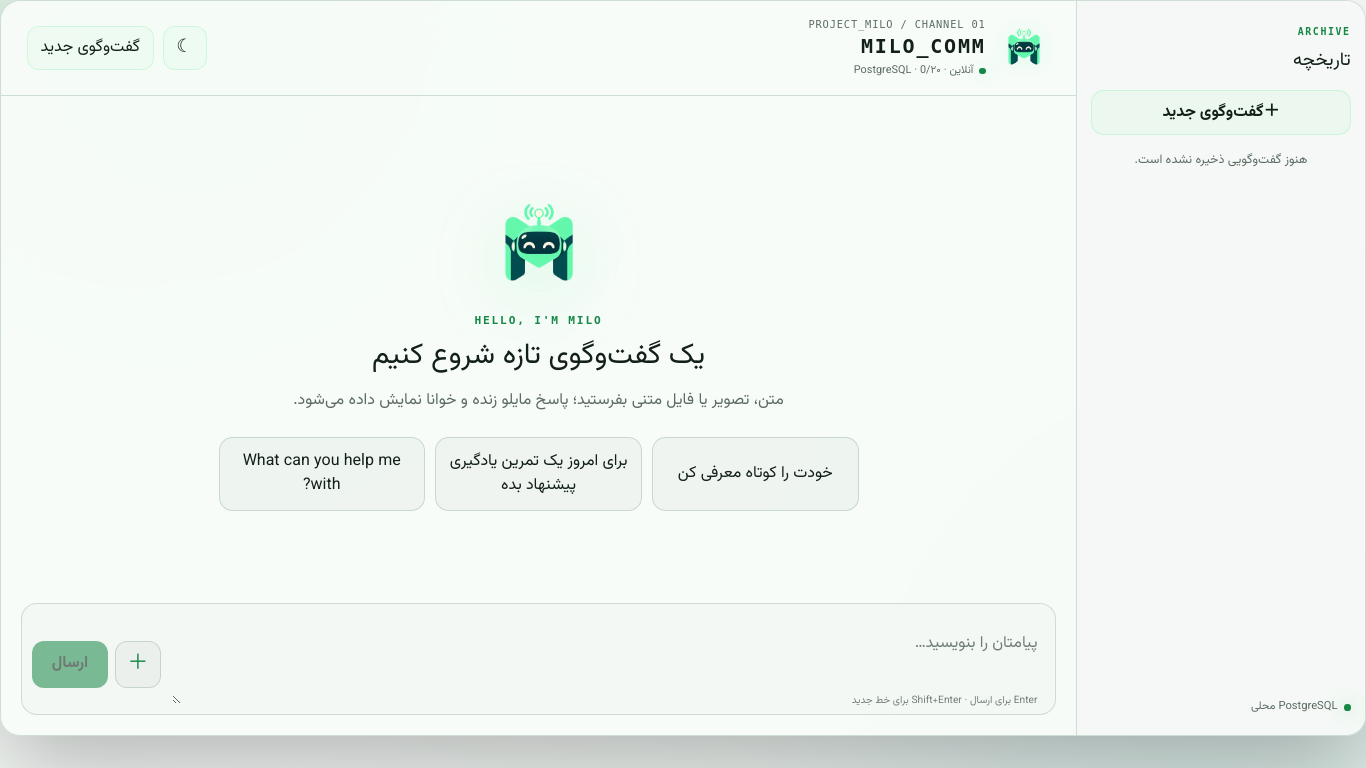
Test: ChatShell › keeps the user message and retries a temporary failure
Type "دوباره تلاش کن" into the text box named "پیام شما برای مایلو".
click(608, 664); type("دوباره تلاش کن")  # box [172, 625, 1045, 704]
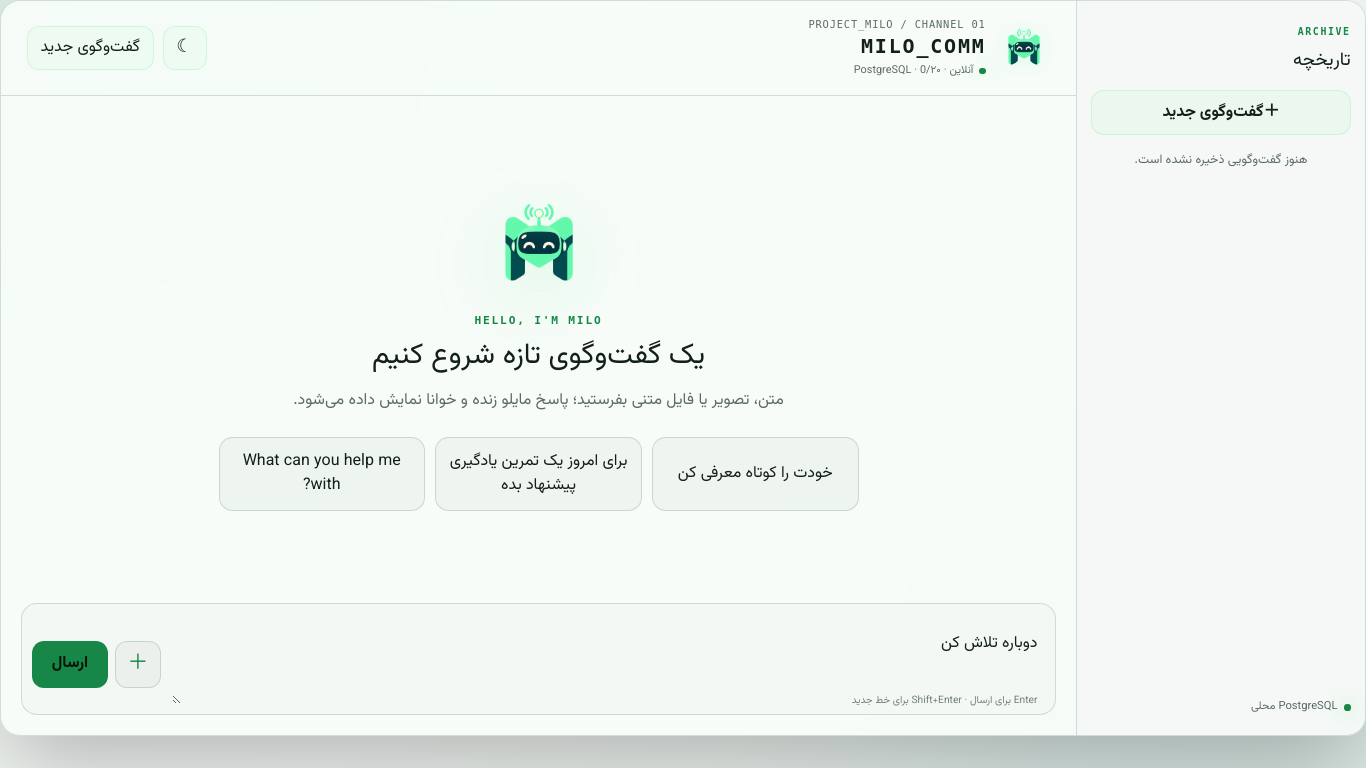
Click the button "ارسال".
click(70, 664)  # box [32, 641, 108, 688]
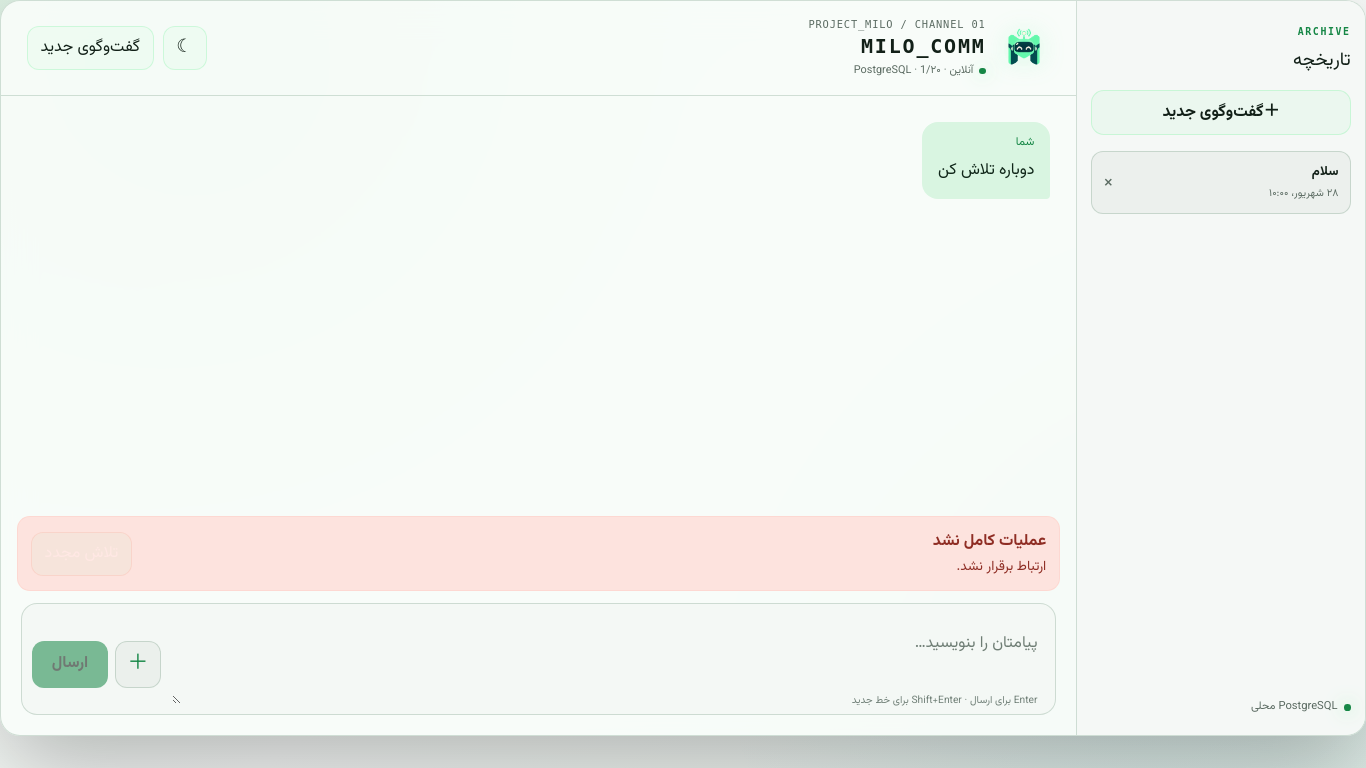
Expected: the text box "دوباره تلاش کن" is shown, [172, 625, 1045, 704]
Click the button "تلاش مجدد".
click(81, 554)  # box [31, 532, 132, 576]
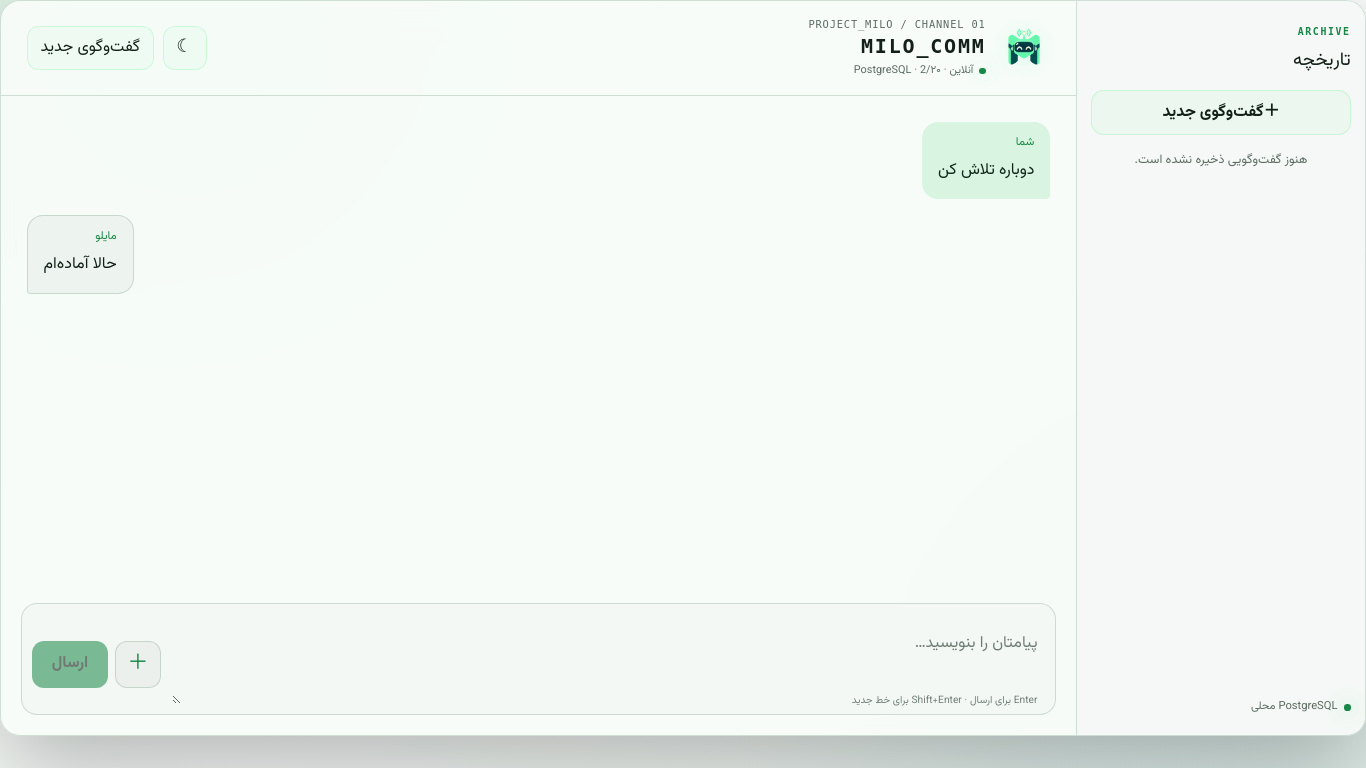
Expected: the text "حالا آماده‌ام" is shown, [44, 250, 117, 280]
